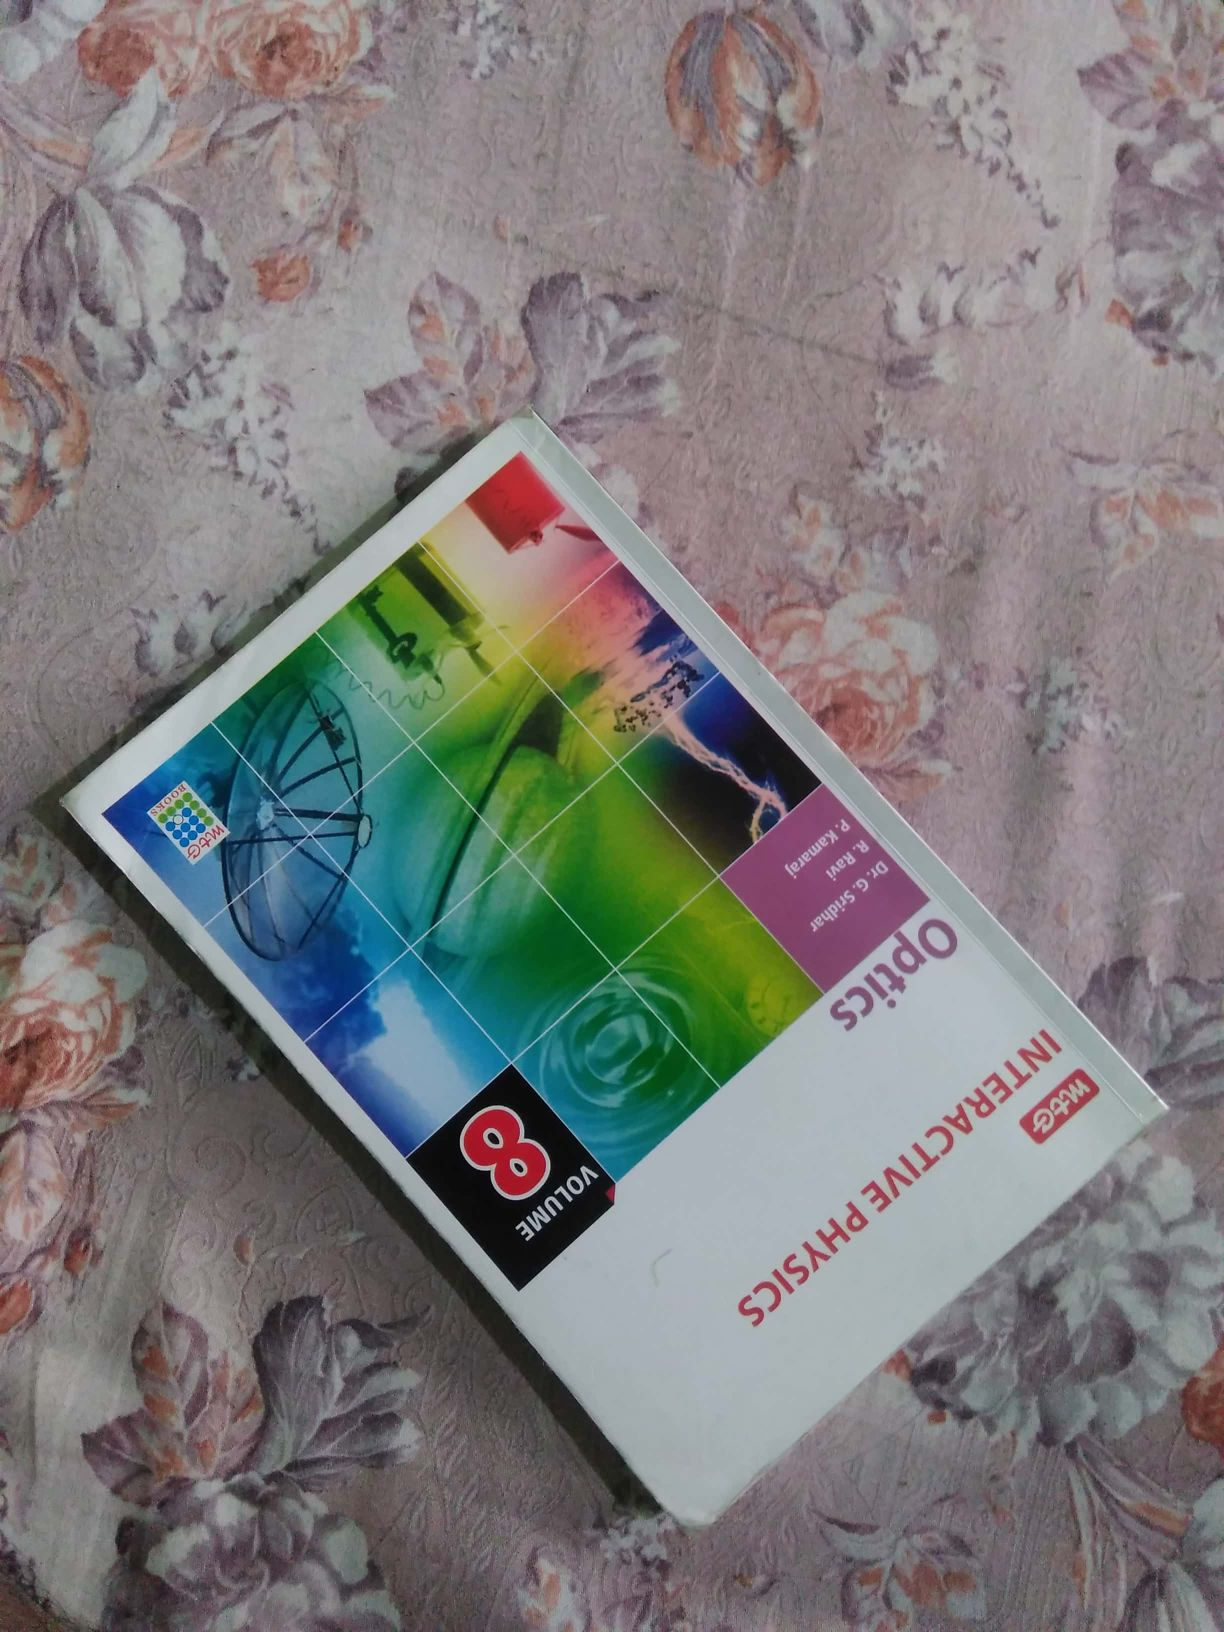optics: (81, 410, 1142, 1551)
